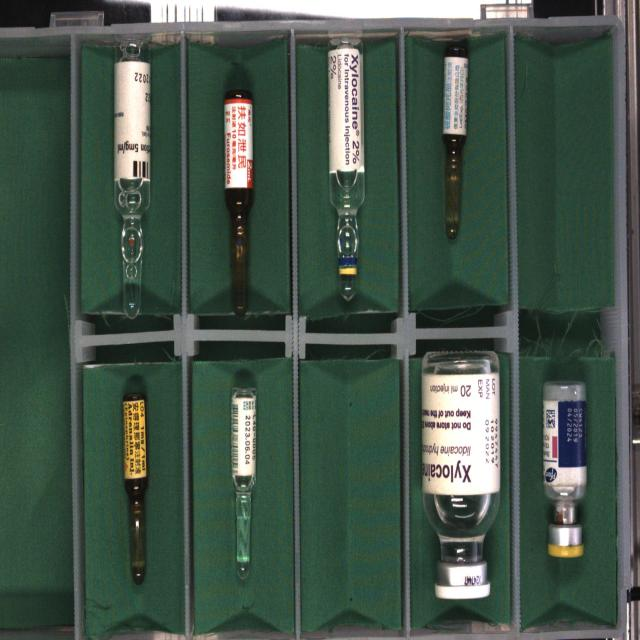Vials: (421, 351, 501, 599), (541, 382, 587, 558), (435, 499, 439, 508)
